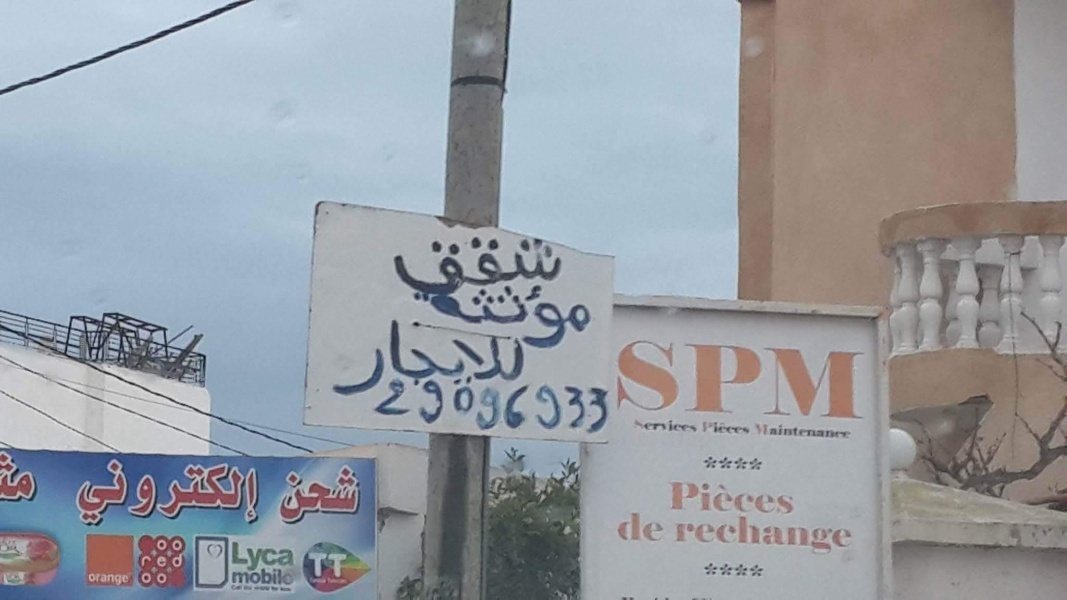text: (625, 336, 640, 421), (641, 336, 656, 421), (657, 336, 672, 421), (673, 336, 688, 421), (689, 336, 704, 421), (705, 336, 720, 421), (721, 336, 736, 421), (737, 336, 752, 421), (753, 336, 768, 421), (769, 336, 784, 421), (785, 336, 800, 421), (801, 336, 816, 421), (817, 336, 832, 421), (833, 336, 848, 421), (849, 336, 864, 421), (353, 316, 368, 397), (369, 316, 384, 397), (385, 316, 400, 397), (401, 316, 416, 397), (417, 316, 432, 397), (433, 316, 448, 397), (449, 316, 464, 397), (465, 316, 480, 397), (481, 316, 496, 397), (497, 316, 512, 397), (513, 316, 527, 397), (417, 281, 432, 353), (433, 281, 448, 353), (449, 281, 464, 353), (465, 281, 480, 353), (481, 281, 496, 353), (497, 281, 512, 353), (513, 281, 528, 353), (529, 281, 544, 353), (545, 281, 560, 353), (561, 281, 576, 353), (577, 281, 592, 353), (339, 316, 352, 397), (81, 458, 96, 525), (97, 458, 112, 525), (113, 458, 128, 525), (129, 458, 144, 525), (145, 458, 160, 525), (161, 458, 176, 525), (177, 458, 192, 525), (193, 458, 208, 525), (209, 458, 224, 525), (225, 458, 240, 525), (241, 458, 256, 525), (401, 236, 416, 298), (417, 236, 432, 298), (433, 236, 448, 298), (449, 236, 464, 298), (465, 236, 480, 298), (481, 236, 496, 298), (497, 236, 512, 298), (513, 236, 528, 298), (529, 236, 544, 298), (545, 236, 560, 298), (289, 465, 304, 526), (305, 465, 320, 526), (321, 465, 336, 526), (337, 465, 352, 526), (1, 450, 16, 507), (17, 450, 32, 507), (385, 377, 400, 428), (401, 377, 416, 428), (417, 377, 432, 428), (433, 377, 448, 428), (513, 384, 529, 431), (545, 384, 560, 433), (561, 384, 576, 433), (577, 384, 592, 433), (593, 384, 608, 433), (465, 384, 480, 431), (481, 384, 496, 431), (497, 384, 512, 431), (689, 512, 704, 558), (705, 512, 720, 558), (721, 512, 736, 558), (737, 512, 752, 558), (753, 512, 768, 558), (769, 512, 784, 558), (785, 512, 800, 558), (801, 512, 816, 558), (817, 512, 832, 558), (833, 512, 848, 558), (616, 336, 624, 421), (676, 512, 688, 558), (353, 465, 362, 526), (673, 480, 688, 515), (689, 480, 704, 515), (705, 480, 720, 515), (721, 480, 736, 515), (737, 480, 752, 515), (753, 480, 768, 515), (769, 480, 784, 515), (392, 236, 400, 298), (625, 511, 640, 543), (641, 511, 656, 543), (241, 542, 256, 573), (257, 542, 272, 573), (273, 542, 288, 573), (321, 552, 336, 579), (536, 384, 544, 433), (456, 384, 464, 431), (377, 377, 384, 428), (33, 450, 39, 507), (75, 458, 80, 525), (308, 552, 320, 579), (785, 480, 794, 515), (769, 422, 784, 442), (785, 422, 800, 442), (801, 422, 816, 442), (817, 422, 832, 442), (833, 422, 848, 442), (337, 552, 348, 579), (641, 417, 656, 435), (657, 417, 672, 435), (673, 417, 688, 435), (755, 422, 768, 442), (657, 511, 665, 543), (241, 568, 256, 585), (257, 568, 272, 585), (273, 568, 288, 585), (232, 542, 240, 573), (705, 420, 720, 435), (721, 420, 736, 435), (145, 554, 160, 568), (161, 554, 176, 568), (689, 417, 700, 435), (161, 539, 176, 552), (97, 573, 112, 586), (113, 573, 128, 586), (145, 572, 160, 585), (737, 420, 750, 435), (618, 511, 624, 543), (561, 236, 564, 298), (289, 542, 295, 573), (849, 512, 853, 558), (241, 584, 256, 594), (257, 584, 272, 594), (273, 584, 288, 594), (414, 281, 416, 353), (257, 458, 259, 525), (233, 568, 240, 585), (634, 417, 640, 435), (161, 572, 169, 585), (177, 539, 184, 552), (337, 578, 350, 585), (231, 584, 240, 594), (289, 568, 294, 585), (865, 336, 866, 421), (177, 554, 183, 568), (90, 573, 96, 586), (593, 281, 594, 353), (287, 465, 288, 526), (310, 578, 320, 584), (289, 584, 295, 594), (849, 422, 852, 442), (328, 578, 336, 585), (449, 377, 450, 428), (609, 384, 610, 433), (141, 554, 144, 568), (321, 578, 328, 584), (157, 539, 160, 552), (671, 480, 672, 515), (702, 420, 704, 435), (129, 573, 131, 586), (142, 572, 144, 585)
